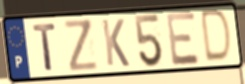5: (132, 13, 164, 70)
D: (200, 8, 234, 64)
E: (164, 10, 202, 68)
K: (100, 17, 131, 68)
T: (31, 22, 58, 73)
Z: (62, 17, 100, 73)
